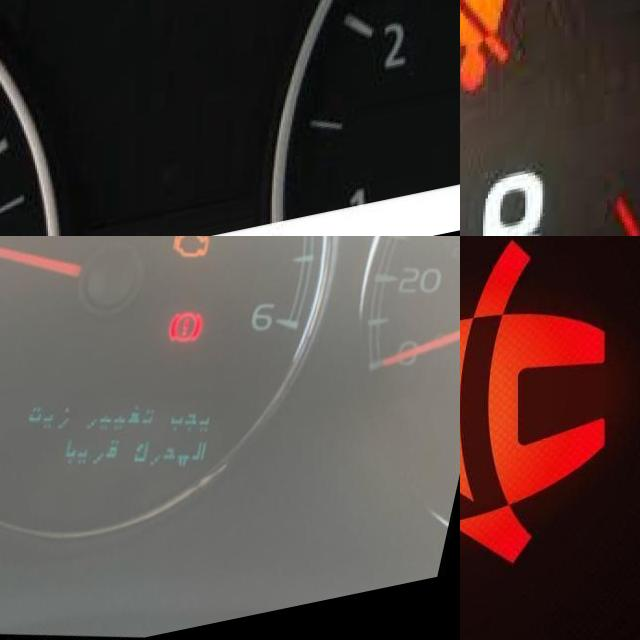Seat Belt: (460, 244, 601, 633), (460, 0, 529, 110)
